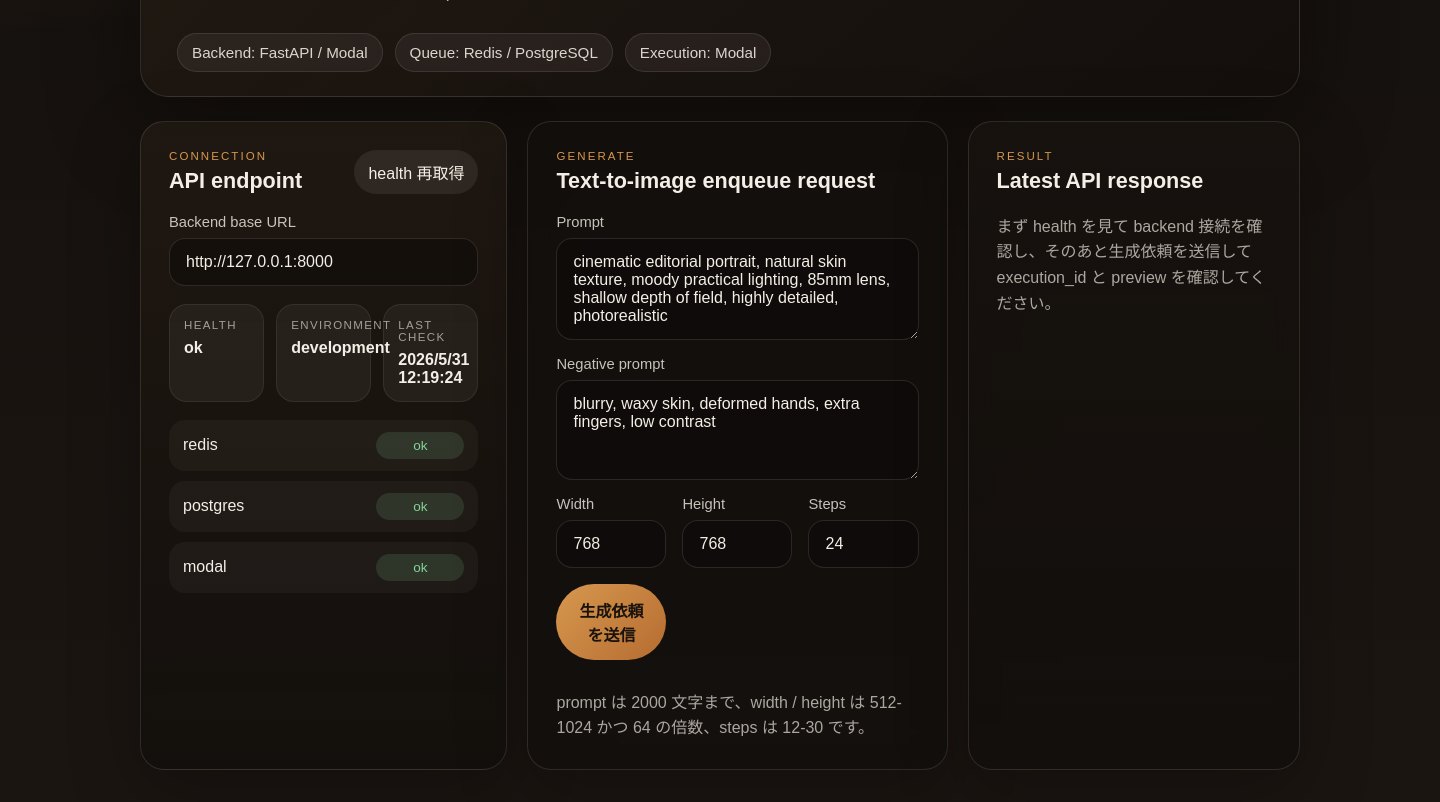
Test: App › shows queued modal execution ids from the backend
(page scrolled)
Expected: the text "development" is shown, [291,339,390,356]
Click the button "生成依頼を送信" at (612, 622), box [556,584,666,660]
(page scrolled)
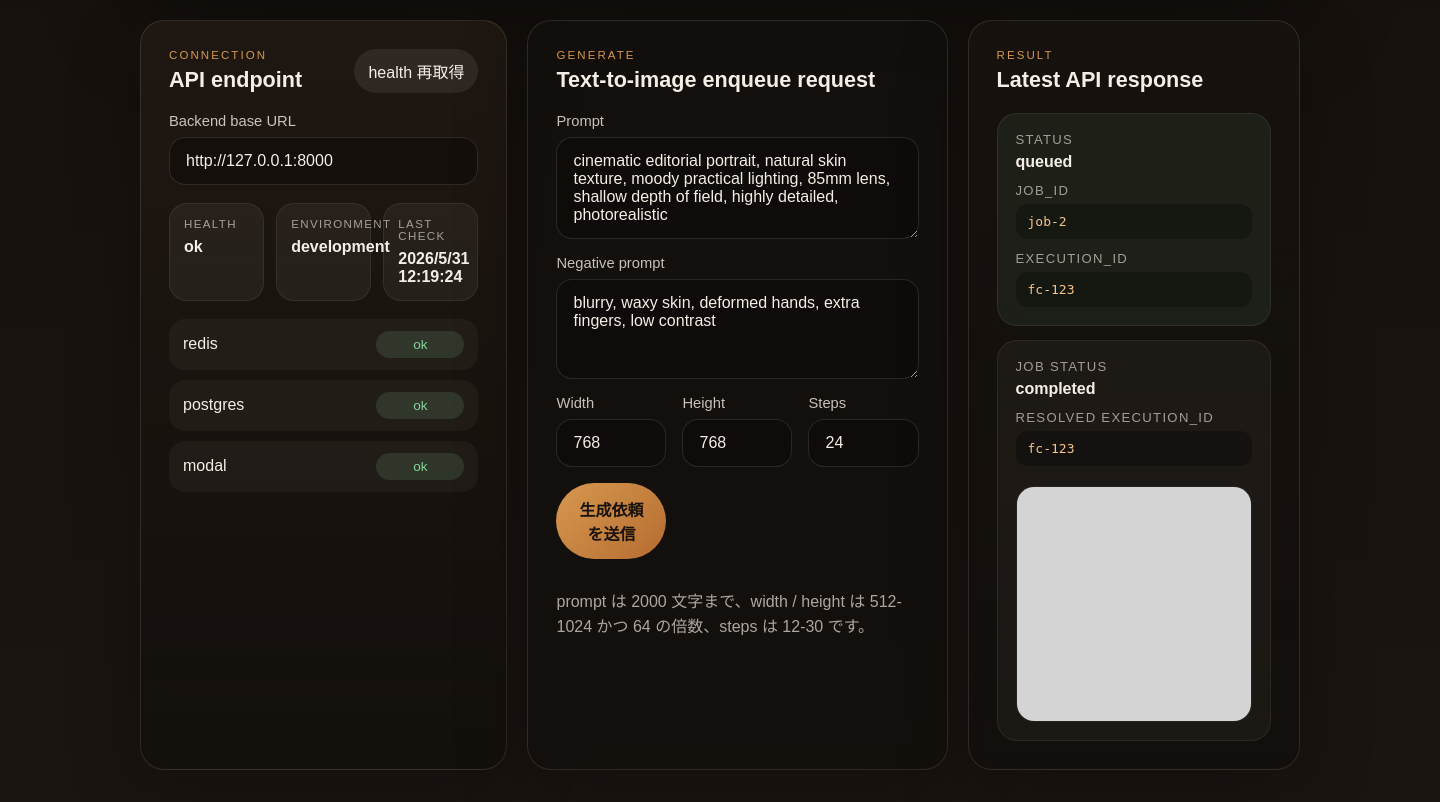
Expected: the text "completed" is shown, [1016,380,1096,397]
Expected: the text "job-2" is shown, [1016,204,1252,239]
Expected: the text "fc-123" is shown 2 times, [1016,272,1252,307]; [1016,431,1252,466]
